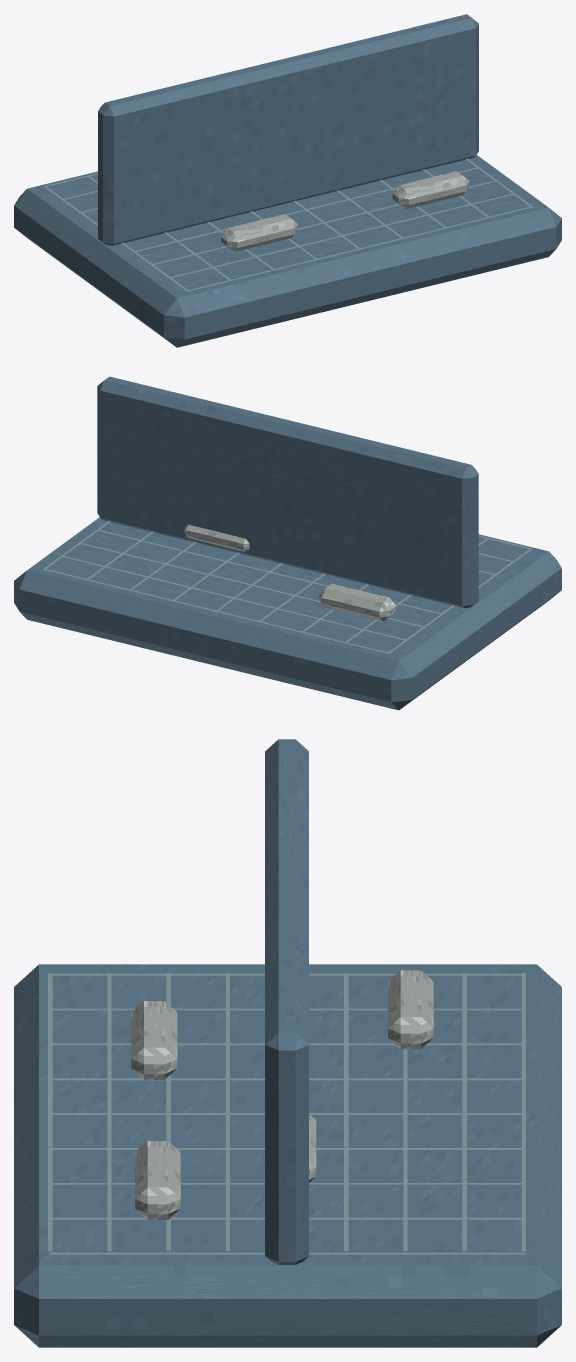
File: battleship.glb
The picture shows the model from 3 angles, top to bottom: view 1: azimuth 30°, elevation 25°; view 2: azimuth 150°, elevation 25°; view 3: azimuth 270°, elevation 25°; orthographic projection. The views are drawn at different scales.
Parts seen in each view (by area): view 1: block_upright divider board, block_divided game board, block_miniature ship (×2), block_grid stripe (×3); view 2: block_upright divider board, block_divided game board, block_miniature ship (×2), block_grid stripe (×4); view 3: block_divided game board, block_upright divider board, block_grid stripe (×14), block_miniature ship (×3).
Boxes of the visible parts, box(x1,y1,x2,y2) form: block_upright divider board: box(98, 14, 478, 245); block_divided game board: box(14, 155, 561, 347); block_miniature ship (×2): box(221, 171, 469, 251); block_grid stripe (×3): box(133, 167, 531, 291); block_upright divider board: box(97, 376, 478, 608); block_divided game board: box(14, 517, 561, 710); block_miniature ship (×2): box(184, 524, 395, 621); block_grid stripe (×4): box(45, 530, 442, 653); block_divided game board: box(14, 964, 561, 1347); block_upright divider board: box(265, 739, 308, 1264); block_grid stripe (×14): box(48, 973, 525, 1254); block_miniature ship (×3): box(131, 970, 433, 1219).
Size of the model in its own units: 0.1508 by 0.0679 by 0.1083.
Materials: 1 (1 with a texture image).
